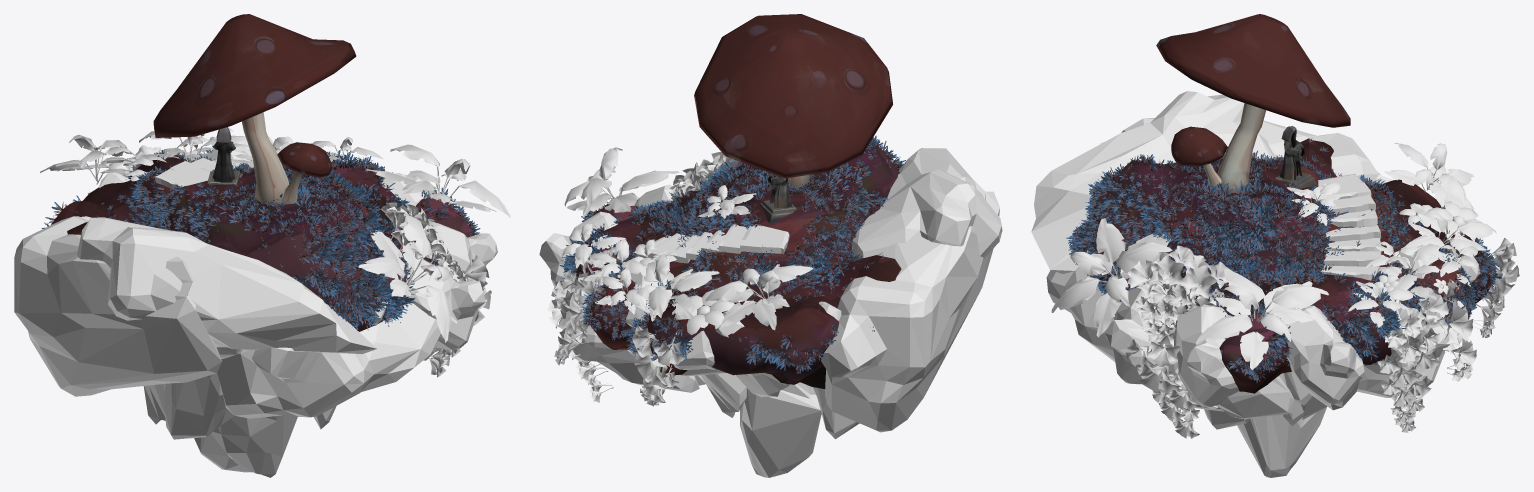
The model's file is Nachtilian IslandUpdate.fbx.
3 views of the same model, side by side, from view 1: azimuth 30°, elevation 25°; view 2: azimuth 150°, elevation 25°; view 3: azimuth 270°, elevation 25° (orthographic). The views are drawn at different scales.
Parts seen in each view (by area): view 1: Mball.049, Mball.016, Mball.028, Mushroom small.002, Mball.002, Mball.009, Plane.079, Mball.015, Mball.027, Plane.048, Mushroom small.008, Mball.025 (+10 smaller); view 2: Mball.049, Mushroom small.002, Mball.016, Mball.028, Mball.009, Plane.088, Plane.048, Plane.044, Mball.020, Plane.061, Mball.022, Mball.006 (+18 smaller); view 3: Mball.049, Mushroom small.002, Mball.028, Mball.025, Plane.048, Mball.022, Plane.079, Mball.009, Mball.027, Mball.016, Plane.088, Mball.002 (+32 smaller).
Boxes of the visible parts, x1,y1,x2,y2 form: Mball.049: (41,148,480,331); Mball.016: (14,216,222,396); Mball.028: (77,217,376,354); Mushroom small.002: (153,14,356,204); Mball.002: (217,303,440,418); Mball.009: (194,415,297,477); Plane.079: (358,213,456,342); Mball.015: (164,372,233,439); Mball.027: (405,260,485,360); Plane.048: (365,144,510,217); Mushroom small.008: (277,142,331,204); Mball.025: (432,222,497,280); Mball.049: (559,135,905,388); Mushroom small.002: (694,14,892,187); Mball.016: (821,176,999,432); Mball.028: (852,148,1002,258); Mball.009: (740,382,821,477); Plane.088: (705,264,813,330); Plane.048: (564,147,679,217); Plane.044: (630,254,719,321); Mball.020: (560,271,705,392); Plane.061: (632,325,686,386); Mball.022: (539,211,617,292); Mball.006: (701,373,746,417); Mball.049: (1066,138,1501,393); Mushroom small.002: (1156,14,1350,193); Mball.028: (1031,91,1275,273); Mball.025: (1174,304,1294,418); Plane.048: (1196,268,1328,369); Mball.022: (1285,305,1364,410); Plane.079: (1051,218,1172,337); Mball.009: (1237,407,1326,477); Mball.027: (1105,285,1224,411); Mball.016: (1101,118,1393,182); Plane.088: (1384,142,1478,216); Mball.002: (1046,268,1217,409).
Size of the model in its own units: 1415 by 1462 by 1442.
